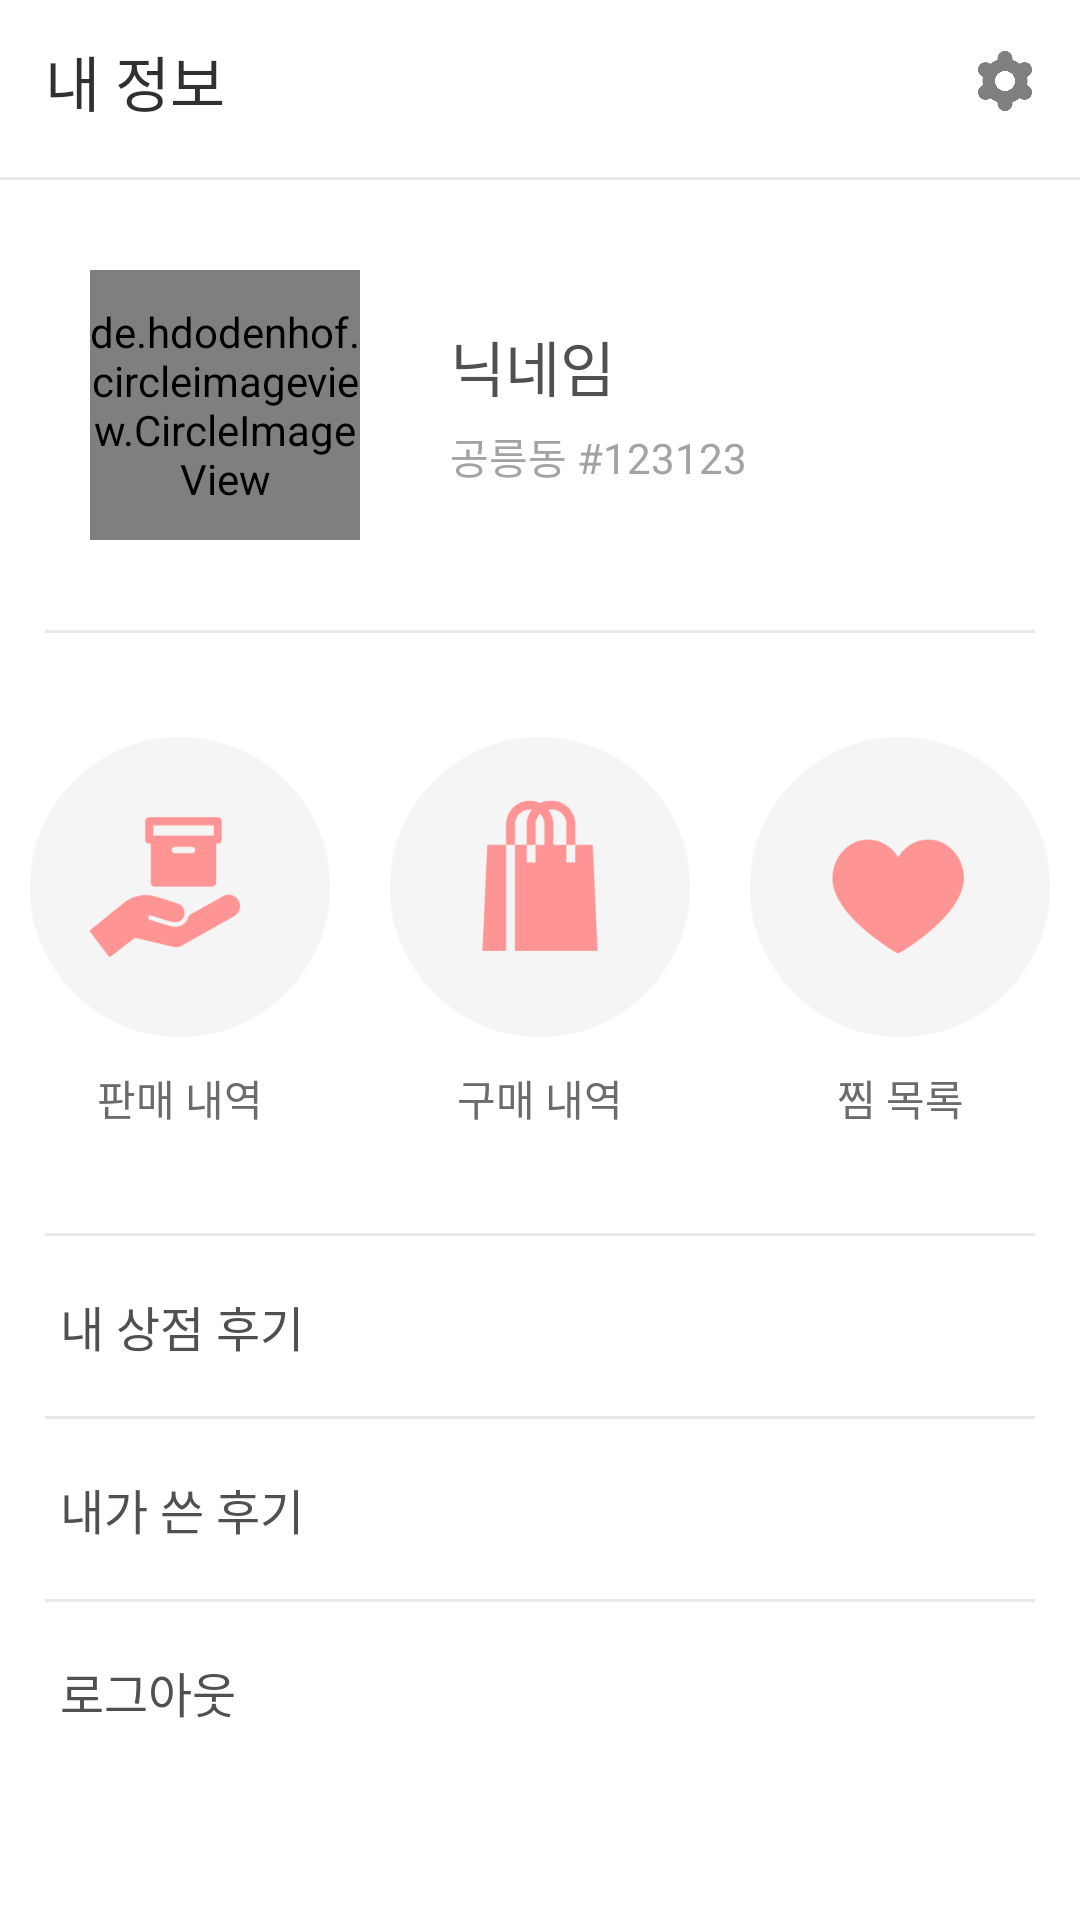

Where icons sit on this 1080 × 1920 app screen, as (x1, y1, x2, y2):
buy: (482, 800, 598, 951)
settings: (978, 51, 1032, 111)
wish: (832, 839, 964, 954)
